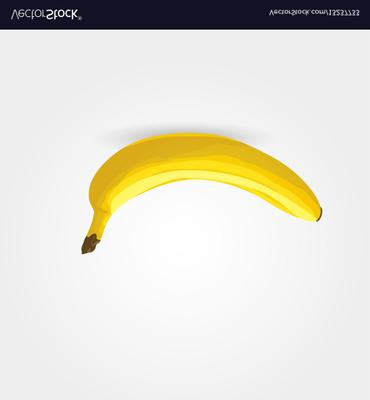banana: (0, 0, 370, 400)
